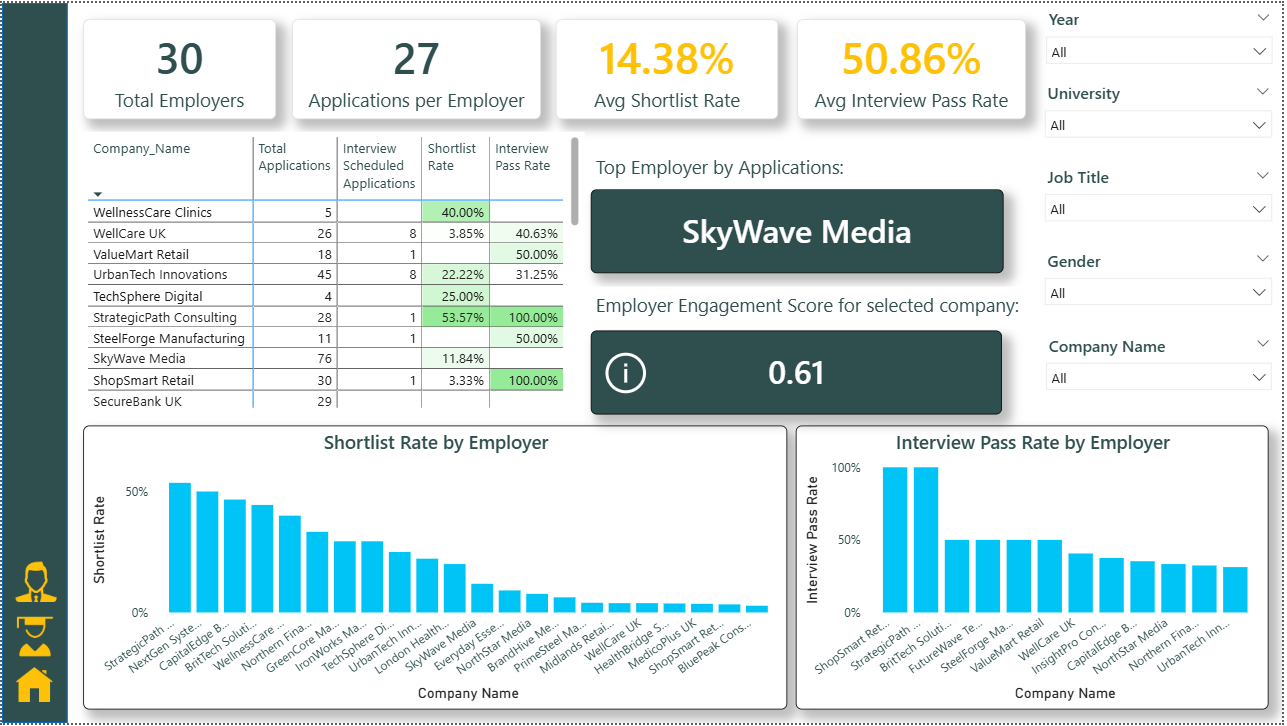

Layout of this report page (visuals, bound fields, positions):
{"tool":"powerbi","page":{"name":"Employer Analytics","canvas":[1280,720],"ordinal":2},"visuals":[{"type":"shape","box":[0,0,65.7,720],"z":0},{"type":"image","box":[8.8,658.8,47.5,47.5],"z":1000},{"type":"image","box":[5,608.8,56.2,50],"z":2000},{"type":"image","box":[2.5,550,62.5,58.8],"z":3000},{"type":"slicer","fields":{"Values":["Students.University"]},"box":[1032.7,73.6,247.3,84.5],"z":3001},{"type":"slicer","fields":{"Values":["Jobs.Job_Title"]},"box":[1032.7,157.6,247.3,84.5],"z":3002},{"type":"slicer","fields":{"Values":["Students.Gender"]},"box":[1032.7,241.5,247.3,84.5],"z":3003},{"type":"slicer","fields":{"Values":["Employers.Company_Name"]},"box":[1033.8,326.2,246.2,83.8],"z":3004},{"type":"slicer","fields":{"Values":["Interviews.Interview_Date.Variation.Date Hierarchy.Year"]},"box":[1033.3,0,246.7,85],"z":3005},{"type":"card","fields":{"Values":["Measure.Total Employers"]},"box":[81.2,16.2,192.5,100],"z":3006},{"type":"card","fields":{"Values":["Measure.Applications per Employer"]},"box":[290,16.2,248.8,100],"z":3007},{"type":"card","fields":{"Values":["Measure.Avg Shortlist Rate"]},"box":[553.8,16.2,222.5,100],"z":3008},{"type":"card","fields":{"Values":["Measure.Avg Interview Pass Rate"]},"box":[795,16.2,228.8,100],"z":3010},{"type":"clusteredColumnChart","title":"Shortlist Rate by Employer","fields":{"Category":["Employers.Company_Name"],"Y":["Measure.Shortlist Rate"]},"box":[81.2,422.5,703.8,283.8],"z":3011},{"type":"clusteredColumnChart","title":"Interview Pass Rate by Employer","fields":{"Category":["Employers.Company_Name"],"Y":["Measure.Interview Pass Rate"]},"box":[793.8,422.5,472.5,283.8],"z":3012},{"type":"pivotTable","fields":{"Rows":["Employers.Company_Name"],"Values":["Measure.Total Applications","Measure.Interview Scheduled Applications","Measure.Shortlist Rate","Measure.Interview Pass Rate"]},"box":[81.2,128.8,501.2,281.2],"z":3014},{"type":"card","title":"Top Employer by Applications: ","fields":{"Values":["Measure.Top Employer"]},"box":[588.8,186.2,412.5,83.8],"z":3015},{"type":"textbox","box":[588.8,146.2,412.5,40],"z":3016},{"type":"card","title":"Top Employer by Applications: ","fields":{"Values":["Measure.Employer Engagement Score"]},"box":[588.8,327.5,411.2,83.8],"z":3017},{"type":"textbox","box":[588.8,283.8,441.2,42.5],"z":3018},{"type":"actionButton","box":[597.5,343.8,52.5,52.5],"z":3019}]}

Visuals, with their boxes in screenshot pixels (x1, y1, x2, y2), scaled from the page's 1280x720 canvas onto the 1287x726 screenshot:
shape: left=0, top=0, right=66, bottom=725
image: left=9, top=664, right=57, bottom=712
image: left=5, top=614, right=62, bottom=664
image: left=3, top=555, right=65, bottom=614
slicer - Students.University: left=1038, top=74, right=1286, bottom=159
slicer - Jobs.Job_Title: left=1038, top=159, right=1286, bottom=244
slicer - Students.Gender: left=1038, top=244, right=1286, bottom=329
slicer - Employers.Company_Name: left=1039, top=329, right=1286, bottom=413
slicer - Interviews.Interview_Date.Variation.Date Hierarchy.Year: left=1039, top=0, right=1286, bottom=86
card - Measure.Total Employers: left=82, top=16, right=275, bottom=117
card - Measure.Applications per Employer: left=292, top=16, right=542, bottom=117
card - Measure.Avg Shortlist Rate: left=557, top=16, right=781, bottom=117
card - Measure.Avg Interview Pass Rate: left=799, top=16, right=1029, bottom=117
"Shortlist Rate by Employer" clusteredColumnChart: left=82, top=426, right=789, bottom=712
"Interview Pass Rate by Employer" clusteredColumnChart: left=798, top=426, right=1273, bottom=712
pivotTable - Employers.Company_Name x Measure.Total Applications: left=82, top=130, right=586, bottom=413
"Top Employer by Applications: " card: left=592, top=188, right=1007, bottom=272
textbox: left=592, top=147, right=1007, bottom=188
"Top Employer by Applications: " card: left=592, top=330, right=1005, bottom=415
textbox: left=592, top=286, right=1036, bottom=329
actionButton: left=601, top=347, right=654, bottom=400
